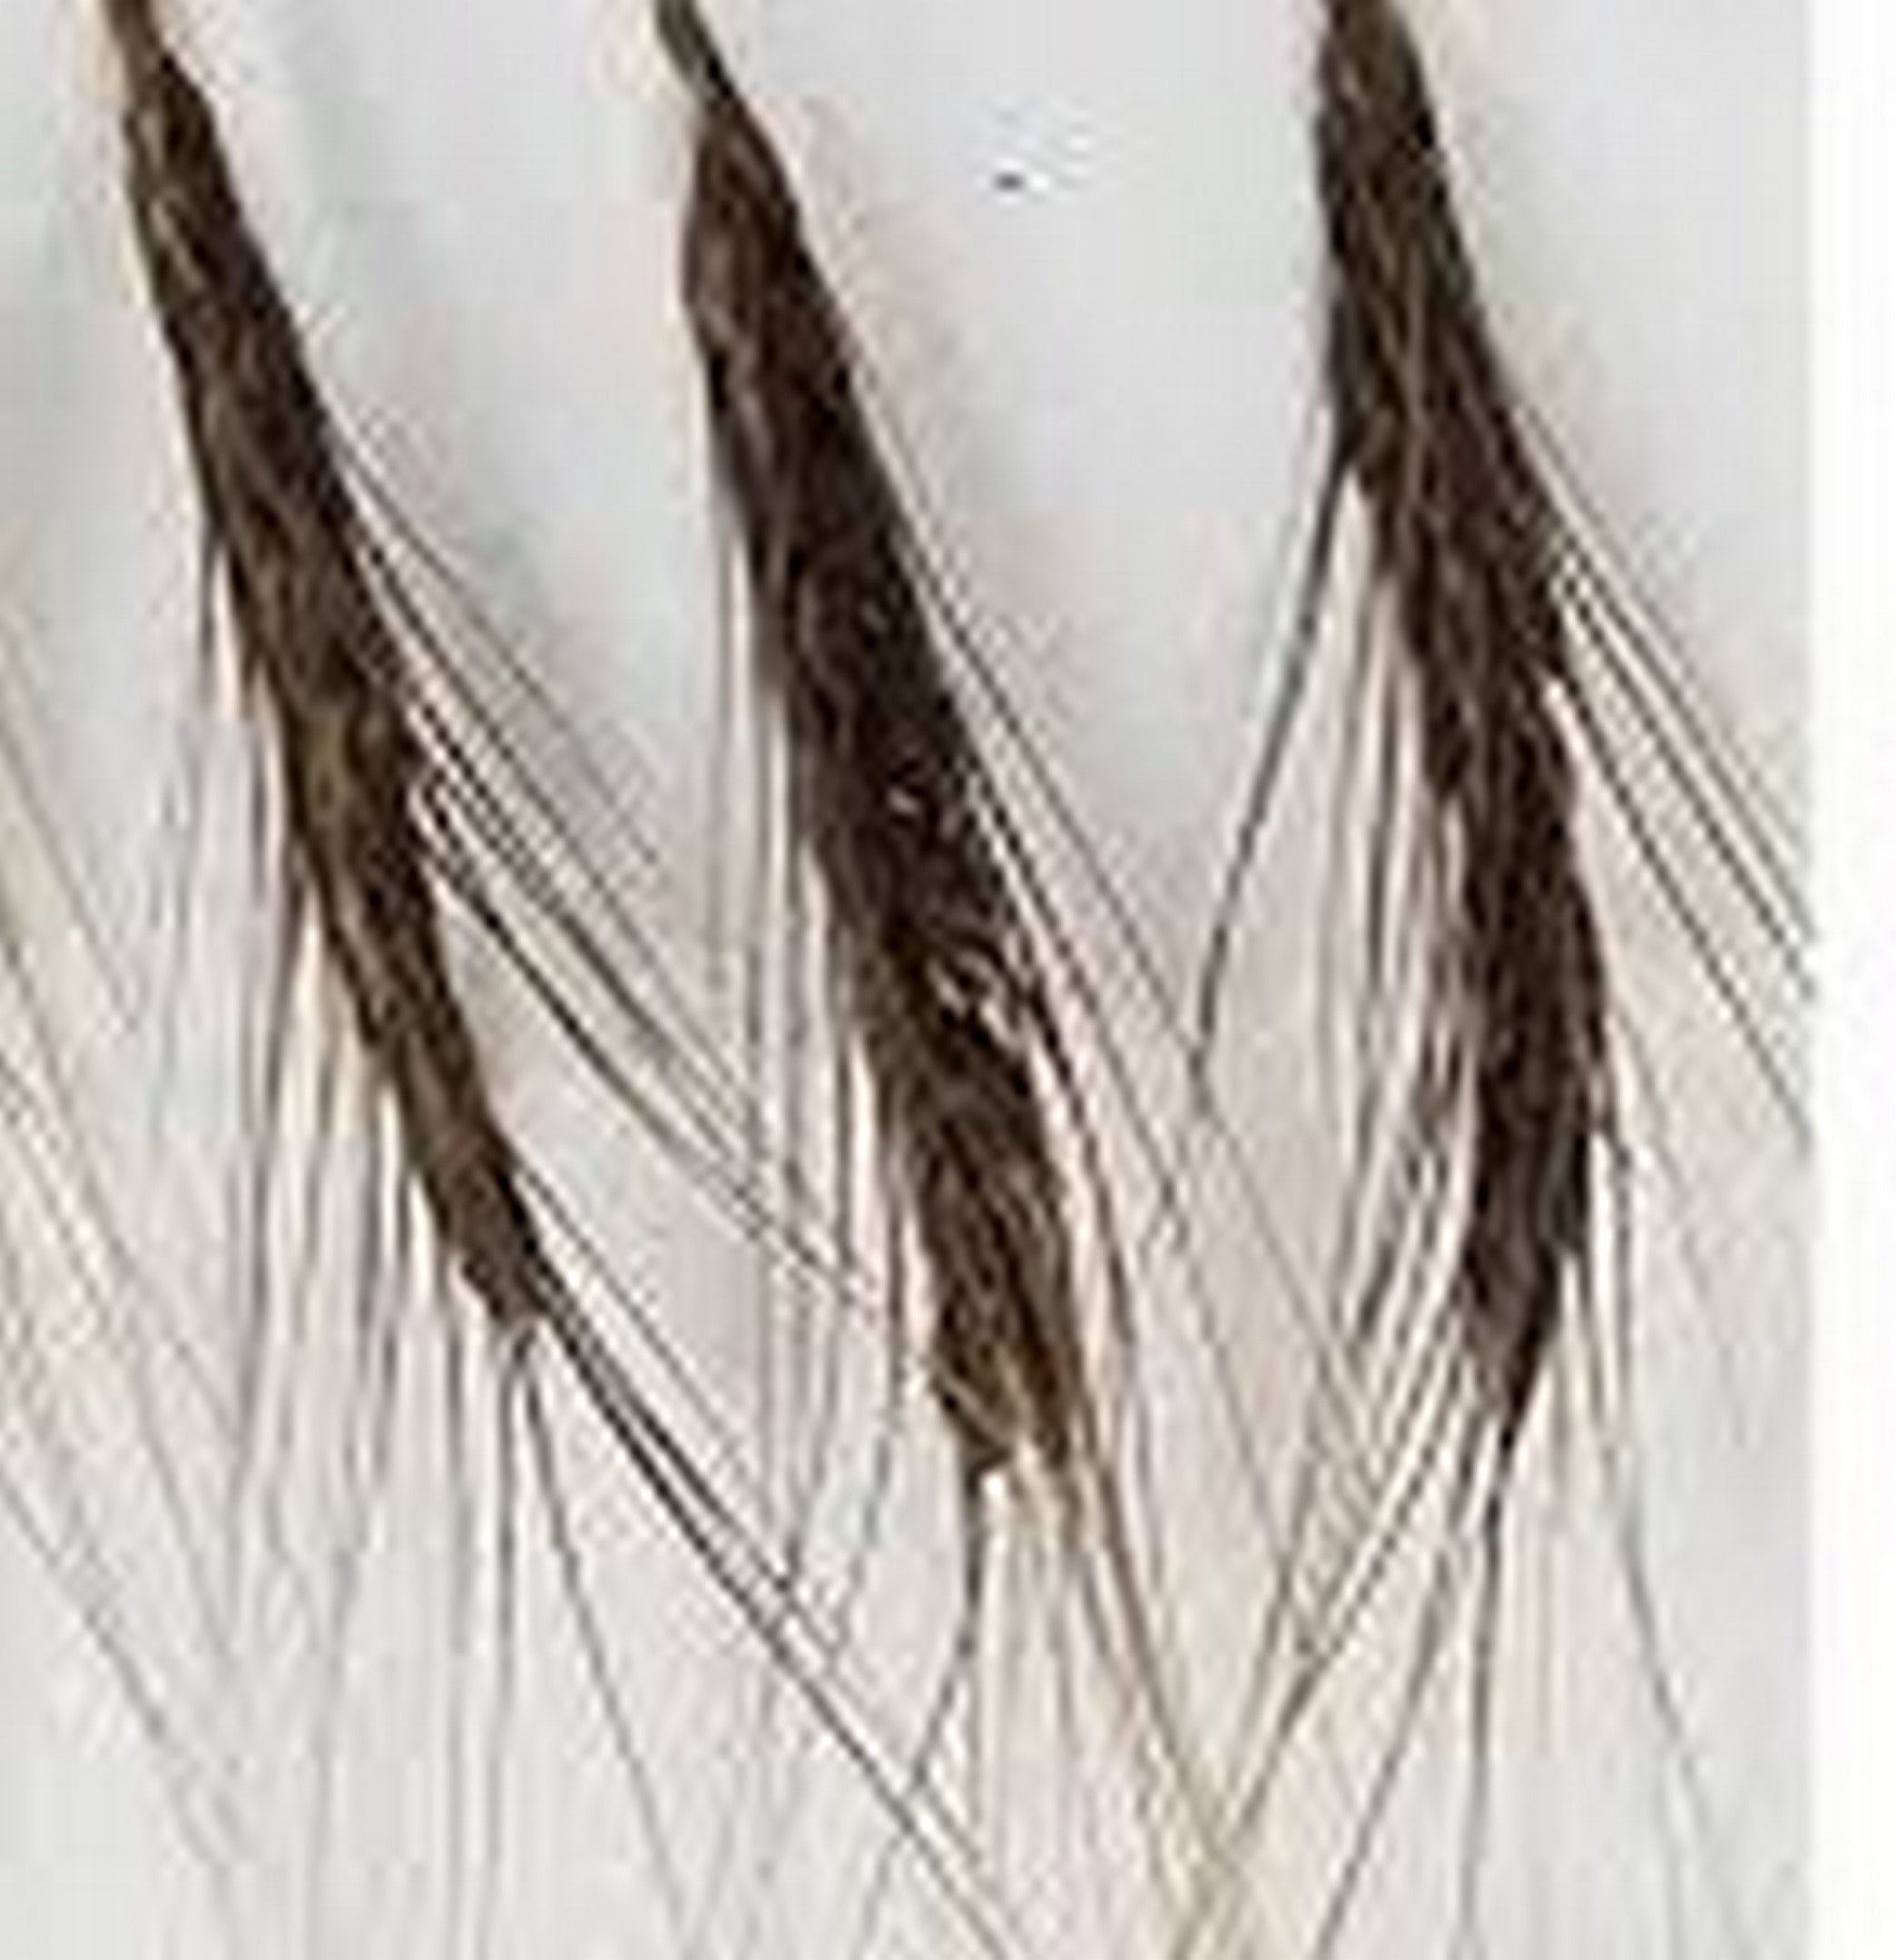Wheat Loose Smut: (84, 49, 1689, 1452)
